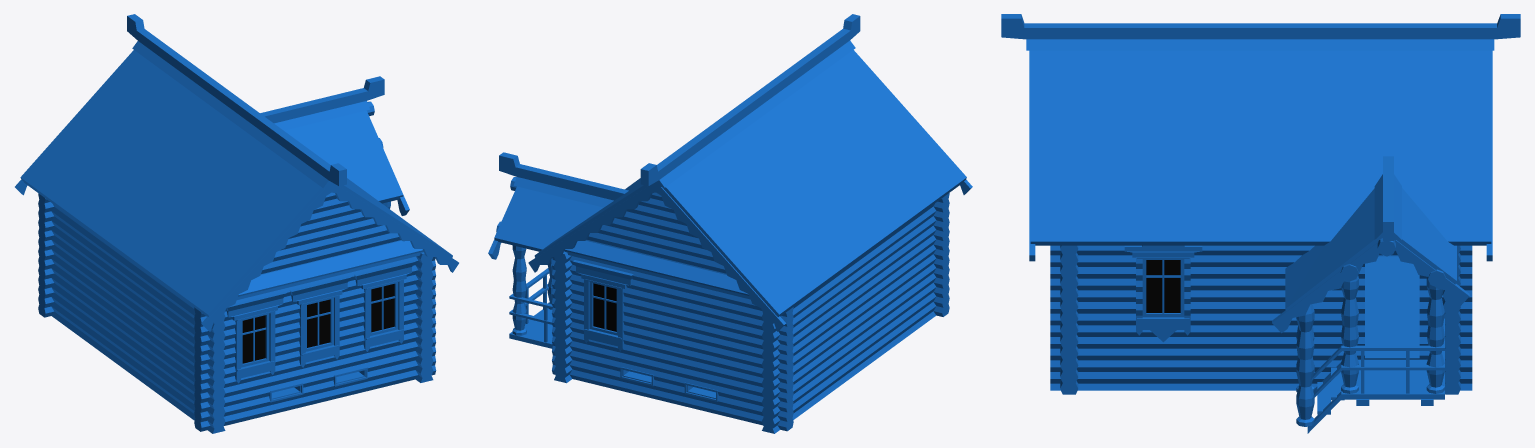
Rendered from SM_house.fbx.
3 renders of one model, left to right at view 1: azimuth 30°, elevation 25°; view 2: azimuth 150°, elevation 25°; view 3: azimuth 270°, elevation 25°, orthographic. The views are drawn at different scales.
Parts seen in each view (by area): view 1: Cylinder_13; view 2: Cylinder_13; view 3: Cylinder_13.
Boxes of the visible parts, <box> form: Cylinder_13: <box>15,14,458,433</box>; Cylinder_13: <box>488,14,972,433</box>; Cylinder_13: <box>1001,14,1520,433</box>.
Bounding box in the file's own units: 758 × 578 × 856.
